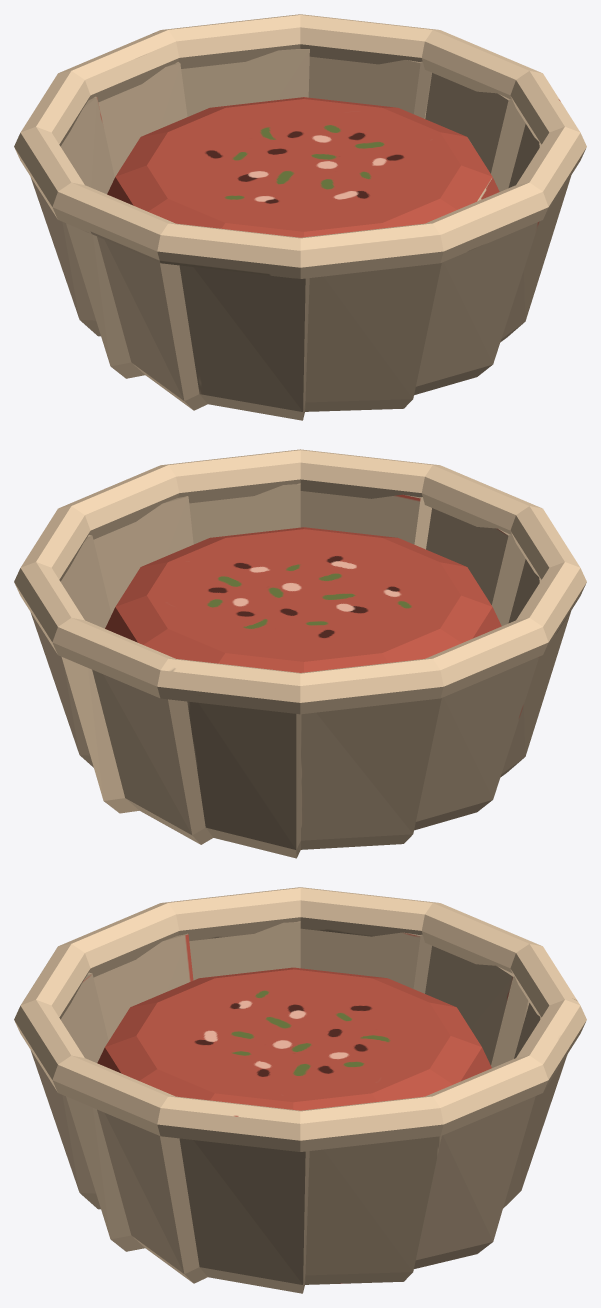
The model's file is 醬汁2_塗色完成.fbx.
3 renders of one model, top to bottom at view 1: azimuth 30°, elevation 25°; view 2: azimuth 150°, elevation 25°; view 3: azimuth 270°, elevation 25°, orthographic.
Parts seen in each view (by area): view 1: Circle.001; view 2: Circle.001; view 3: Circle.001.
Boxes of the visible parts, x1,y1,x2,y2 form: Circle.001: (14,14,586,420); Circle.001: (14,449,586,858); Circle.001: (14,887,586,1293).
Bounding box in the file's own units: 51.65 × 20.82 × 51.65.
